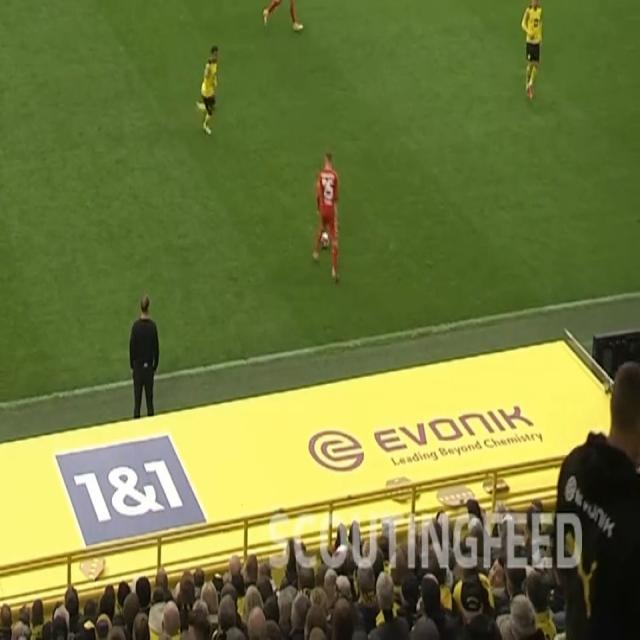ball: (319, 231, 331, 251)
